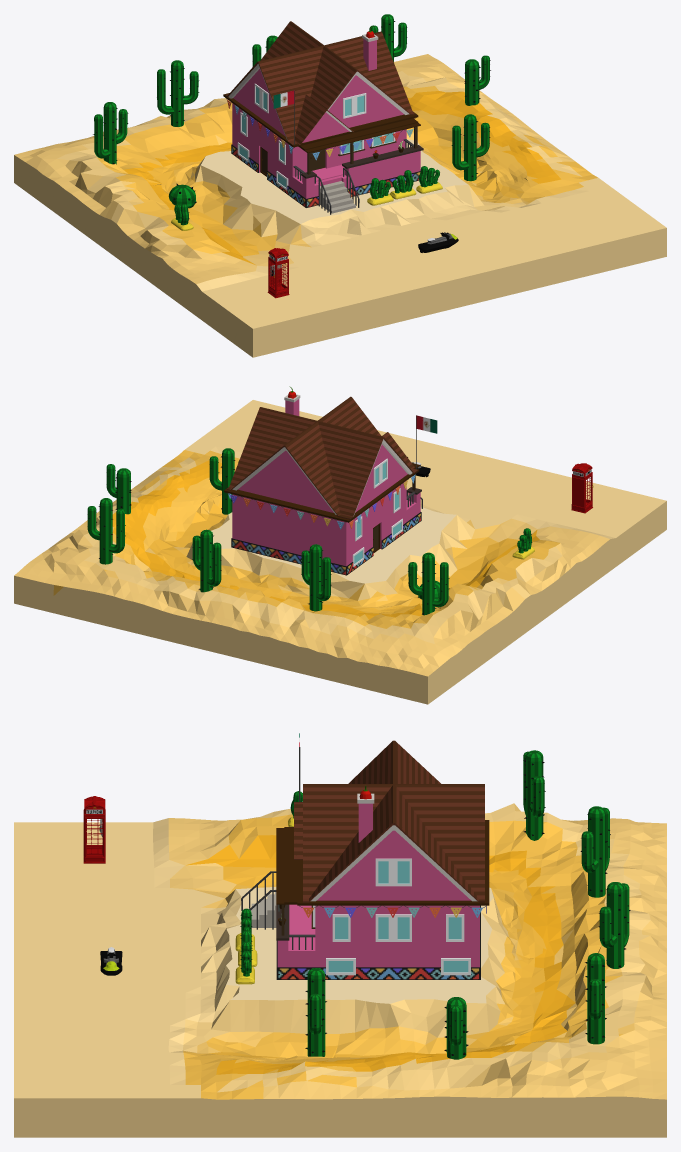
3 views of the same model, one above another, from view 1: azimuth 30°, elevation 25°; view 2: azimuth 150°, elevation 25°; view 3: azimuth 270°, elevation 25° (orthographic). The views are drawn at different scales.
Visible parts, largest first — view 1: Cube.001, Cube.1005, Cylinder.044, Cylinder.037, Cylinder.045, OBJRANDOM_PHONEBOOTH, Cylinder.038, Cylinder.042, Cylinder.039, Cylinder.041; view 2: Cube.001, Cube.1005, Cylinder.042, Cylinder.045, Cylinder.044, Cylinder.043, Cylinder.037, OBJRANDOM_PHONEBOOTH, Cylinder.038; view 3: Cube.001, Cube.1005, Cylinder.043, Cylinder.044, Cylinder.045, Cylinder.037, Cylinder.042, OBJRANDOM_PHONEBOOTH, Cylinder.038, Cylinder.041.
Boxes of the visible parts, x1,y1,x2,y2 form: Cube.001: (14,54,666,357); Cube.1005: (223,21,423,214); Cylinder.044: (157,60,199,126); Cylinder.037: (451,114,490,181); Cylinder.045: (93,102,128,164); OBJRANDOM_PHONEBOOTH: (267,248,289,298); Cylinder.038: (464,55,490,105); Cylinder.042: (369,14,407,61); Cylinder.039: (367,178,393,205); Cylinder.041: (416,166,442,193); Cube.001: (14,400,666,704); Cube.1005: (224,386,437,575); Cylinder.042: (87,498,125,564); Cylinder.045: (408,552,449,615); Cylinder.044: (301,544,331,611); Cylinder.043: (192,529,221,592); Cylinder.037: (209,448,239,514); OBJRANDOM_PHONEBOOTH: (571,463,593,513); Cylinder.038: (106,464,131,514); Cube.001: (14,803,666,1137); Cube.1005: (241,733,489,979); Cylinder.043: (598,882,630,968); Cylinder.044: (580,806,610,897); Cylinder.045: (523,750,545,840); Cylinder.037: (305,968,326,1056); Cylinder.042: (585,953,606,1044); OBJRANDOM_PHONEBOOTH: (83,796,105,863); Cylinder.038: (444,997,468,1059); Cylinder.041: (235,941,254,984).
Bounding box in the file's own units: 4002 × 1713 × 4001.
69 materials, 4 textured.
